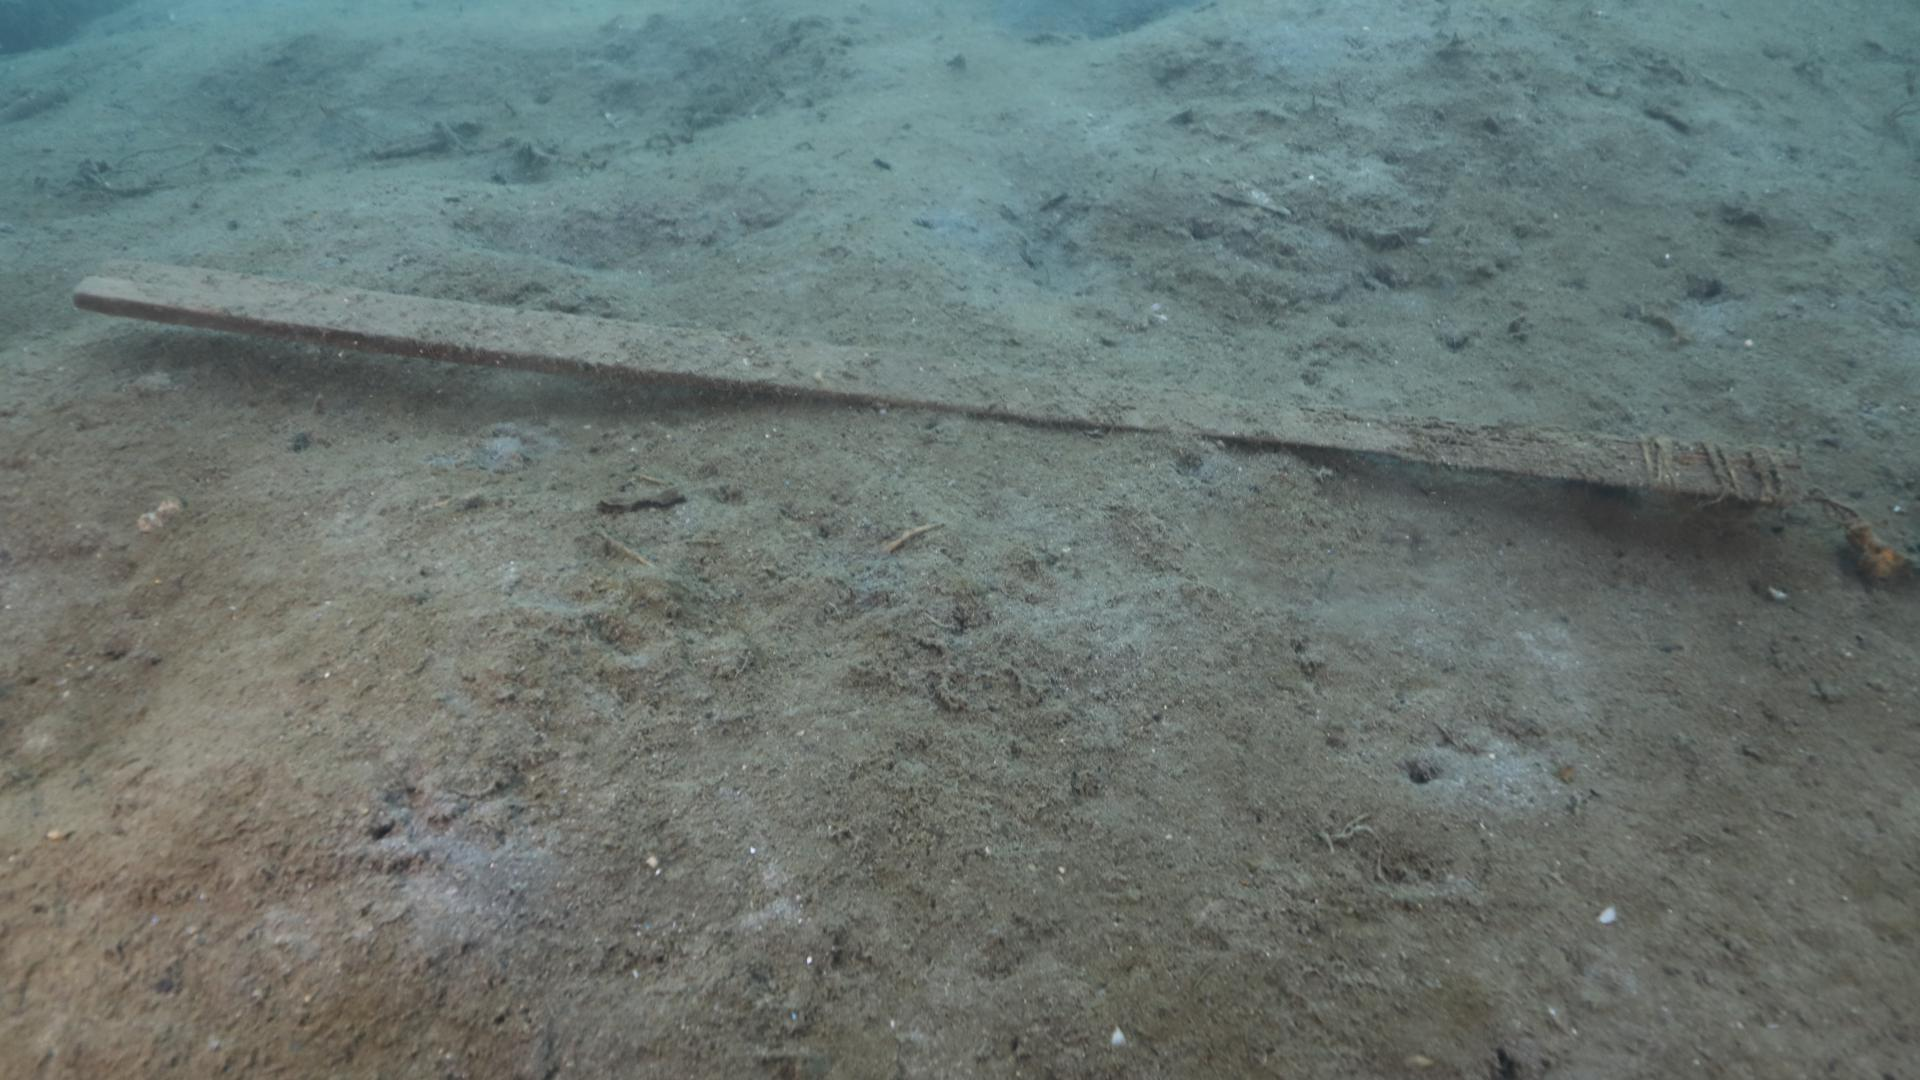wood: (70, 255, 1808, 506)
